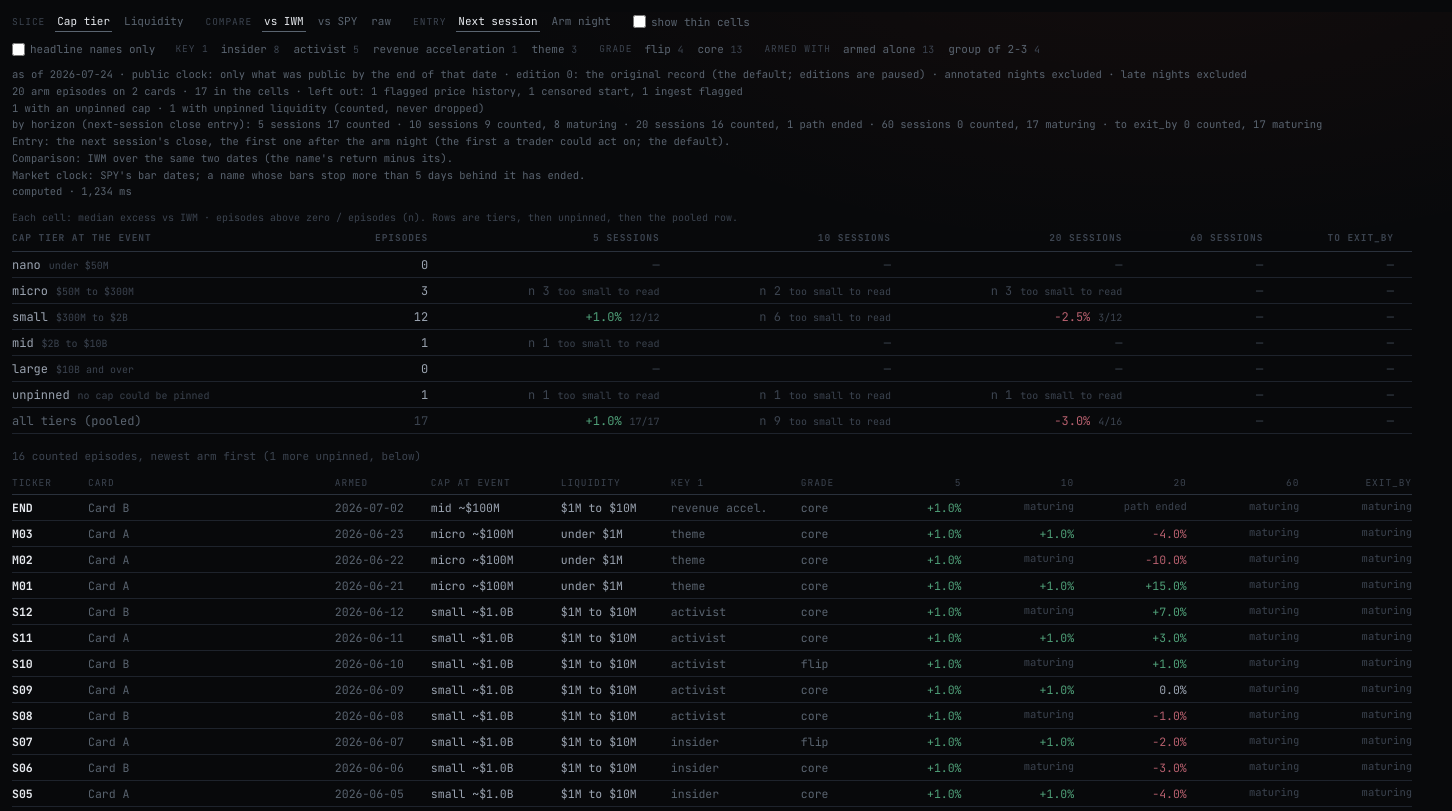
Scenario: TrackRecord — the toggles re-table the page with no request › restates every cell under a chip filter and the line says how many are shown
The width and height of the screenshot is (1452, 811).
Click the button "Arm night" at [581, 22], box top-left (550, 12), bottom-right (613, 32)
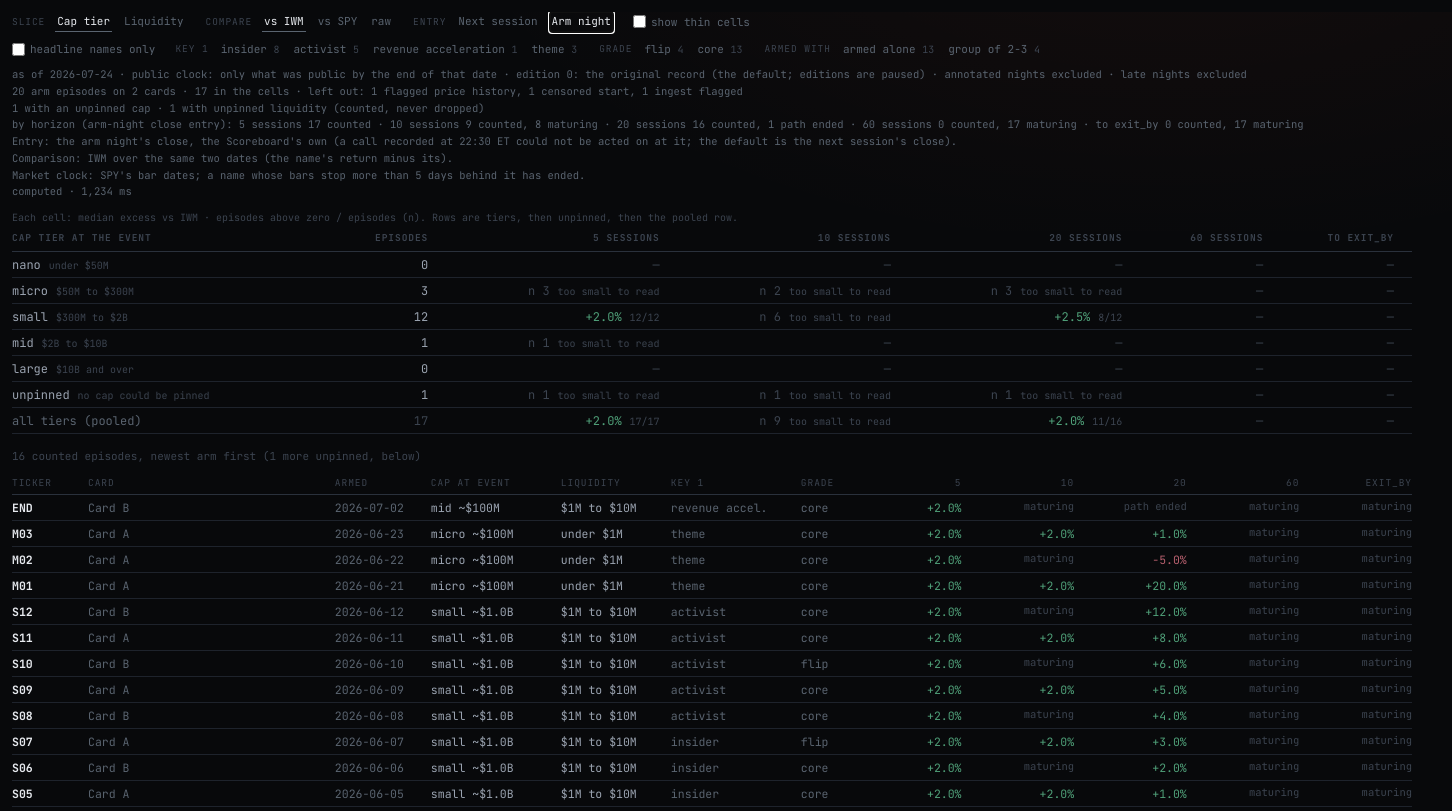
Click the button "activist 5" at [326, 49], box top-left (292, 40), bottom-right (361, 59)
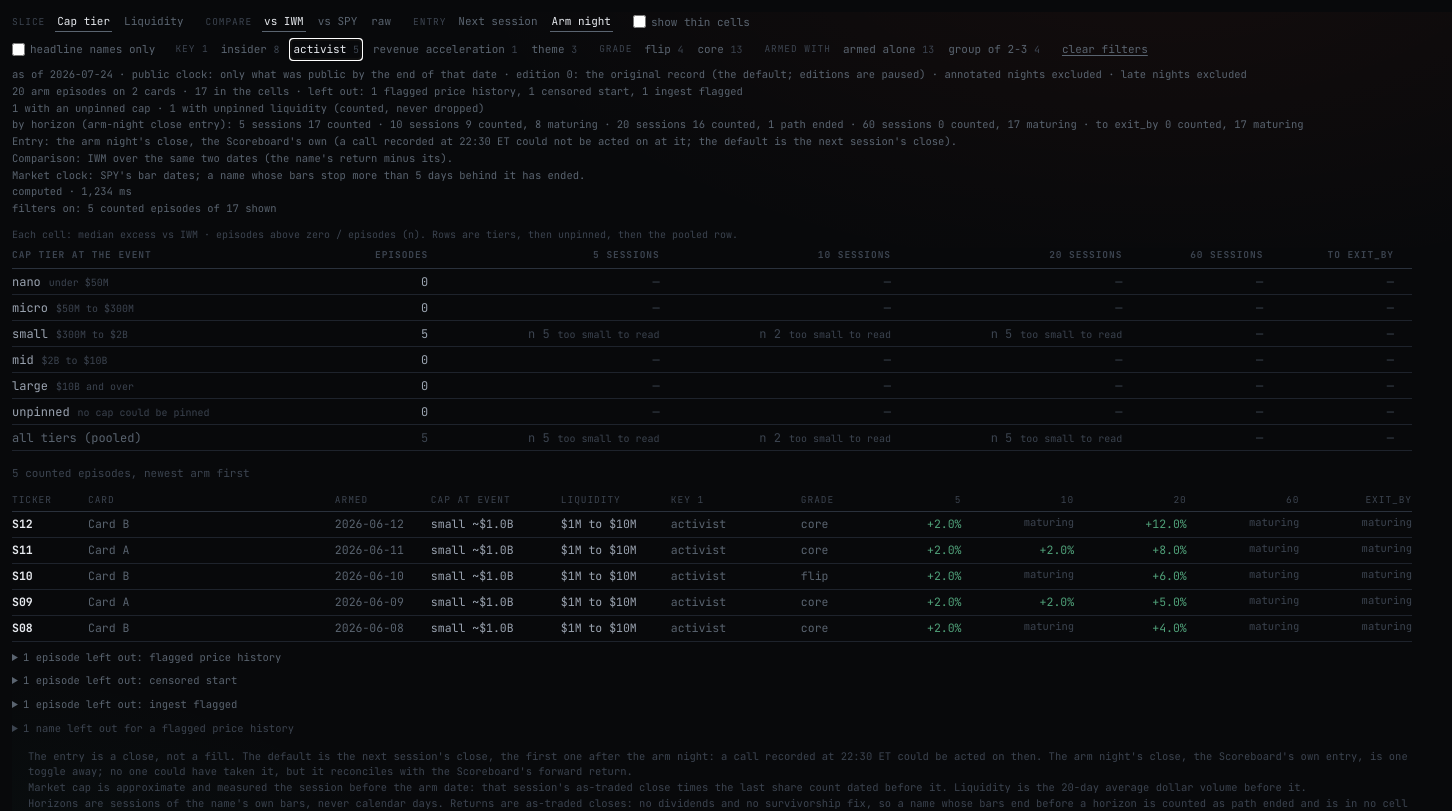
Expected: the text "filters on: 5 counted episodes of 17 shown" is shown, top-left (12, 201), bottom-right (277, 215)
Click the button "clear filters" at [1105, 49], box top-left (1062, 41), bottom-right (1148, 58)
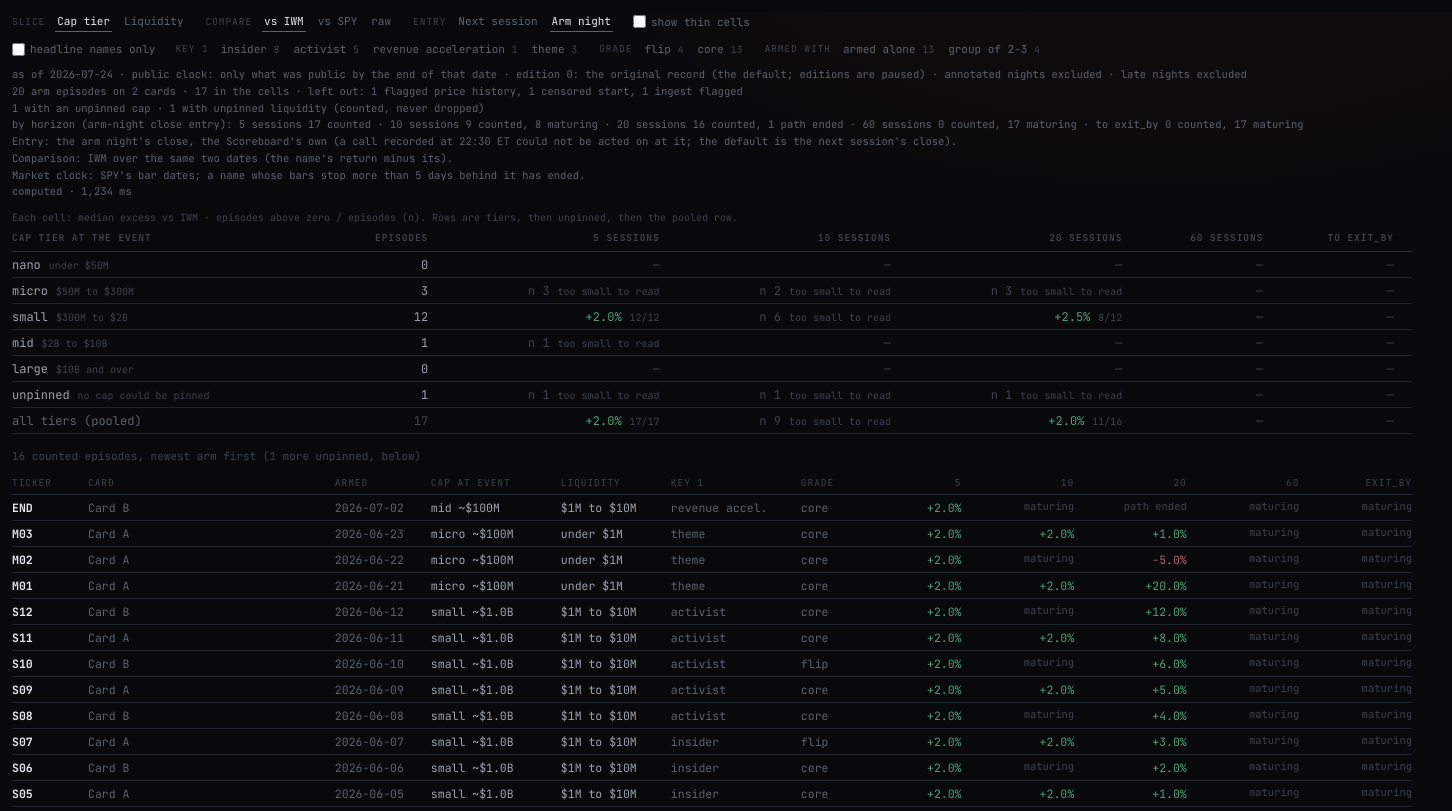
Expected: the text "filters on:" is gone
